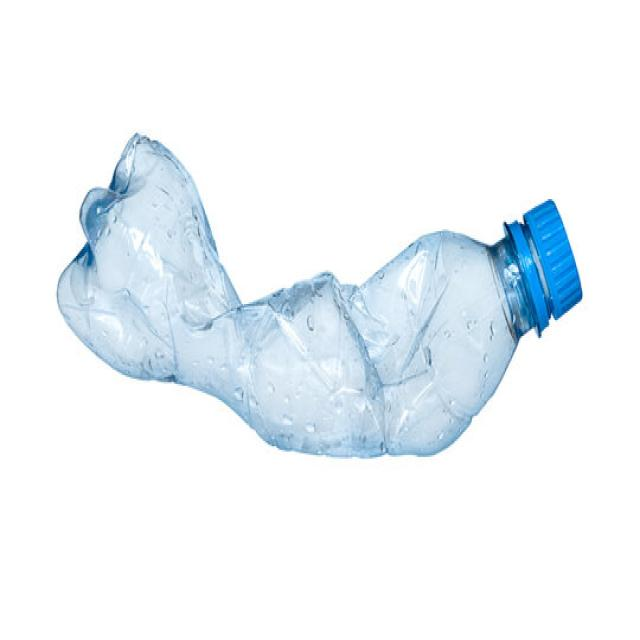bottom: (53, 130, 218, 381)
neck: (418, 193, 586, 422)
